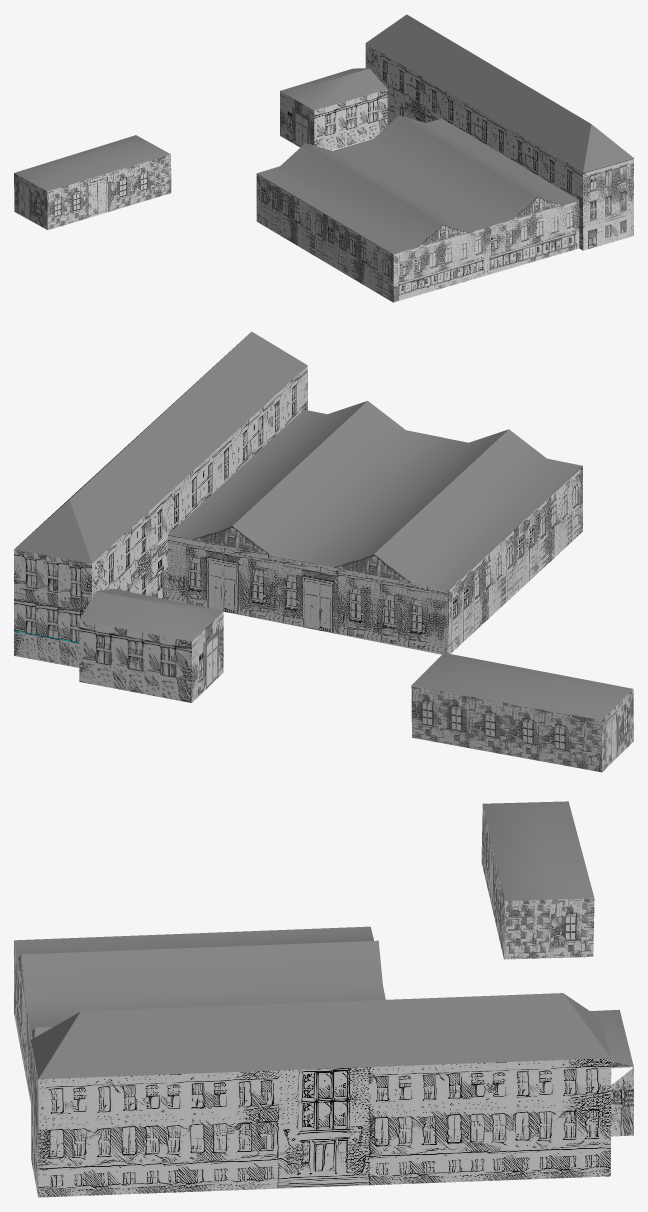
File: Jante-Bau.gltf
3 views of the same model, one above another, from view 1: azimuth 30°, elevation 25°; view 2: azimuth 150°, elevation 25°; view 3: azimuth 270°, elevation 25° (orthographic). The views are drawn at different scales.
Parts seen in each view (by area): view 1: Hauptgebaeude.1; view 2: Hauptgebaeude.1; view 3: Hauptgebaeude.1.
Part boxes in pixels (<box>): Hauptgebaeude.1: <box>14,14,633,302</box>; Hauptgebaeude.1: <box>14,331,633,772</box>; Hauptgebaeude.1: <box>14,801,633,1197</box>.
Bounding box in the file's own units: 87.06 × 20.4 × 69.17.
19 materials, 18 textured.
